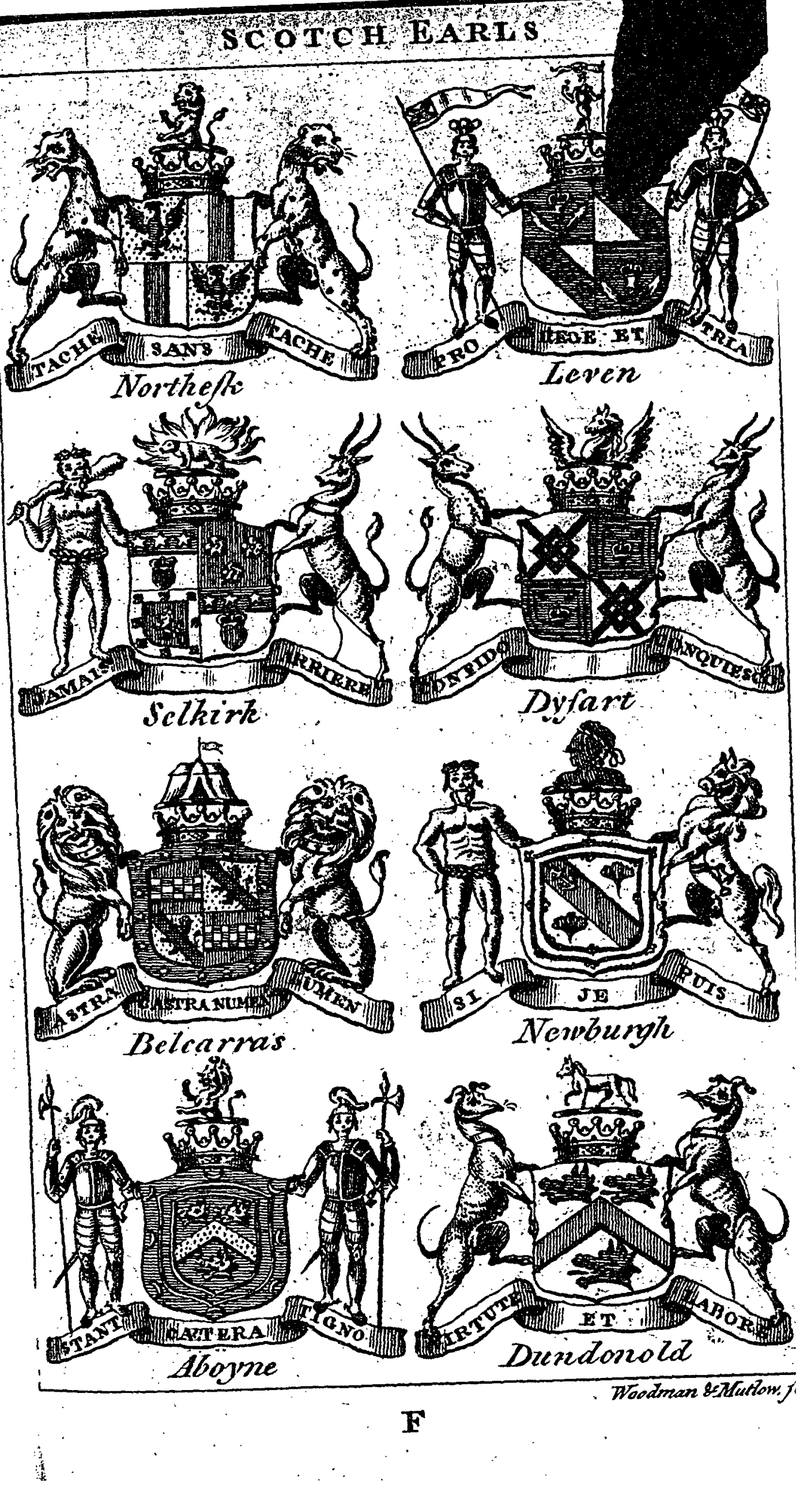coat_of_arms: (401, 396, 788, 717), (20, 401, 396, 726), (24, 739, 401, 1058), (35, 1059, 409, 1380), (390, 77, 775, 386), (15, 83, 384, 402), (416, 729, 793, 1036), (416, 1051, 790, 1359)
